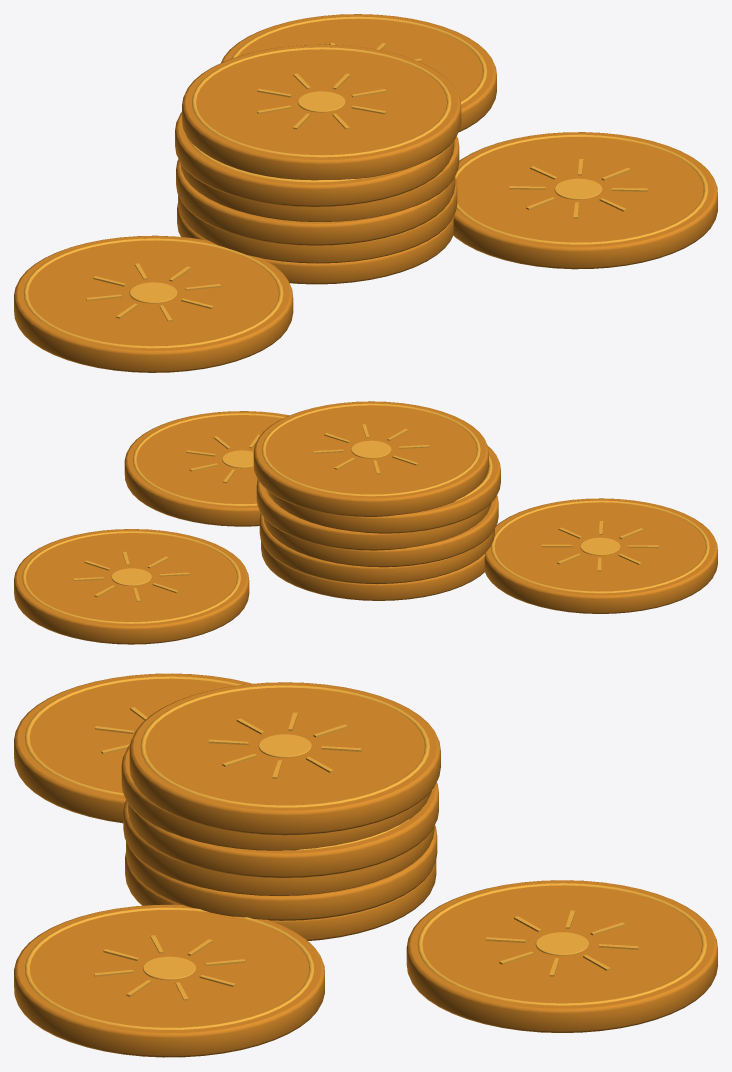
Rendered from moedas_ouro.glb.
The picture shows the model from 3 angles, top to bottom: view 1: azimuth 30°, elevation 25°; view 2: azimuth 150°, elevation 25°; view 3: azimuth 270°, elevation 25°; orthographic projection. The views are drawn at different scales.
Visible parts, largest first — view 1: moedas_ouro_polido_malha, moedas_ouro_claro_relevo_malha; view 2: moedas_ouro_polido_malha, moedas_ouro_claro_relevo_malha; view 3: moedas_ouro_polido_malha, moedas_ouro_claro_relevo_malha.
Part boxes in pixels (<box>): moedas_ouro_polido_malha: <box>14,14,717,372</box>; moedas_ouro_claro_relevo_malha: <box>23,16,708,348</box>; moedas_ouro_polido_malha: <box>14,401,717,644</box>; moedas_ouro_claro_relevo_malha: <box>22,403,709,623</box>; moedas_ouro_polido_malha: <box>14,673,717,1057</box>; moedas_ouro_claro_relevo_malha: <box>25,676,706,1029</box>.
Bounding box in the file's own units: 0.5789 × 0.1018 × 0.475.
